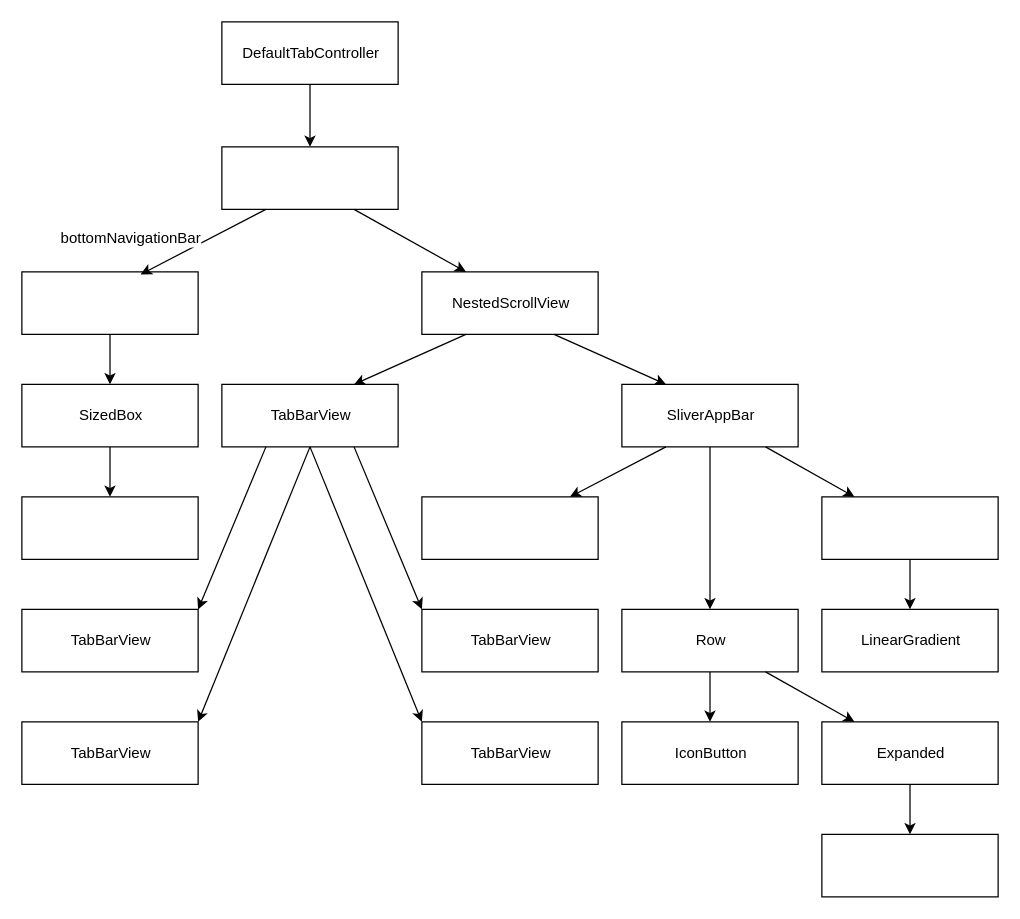
Image size: 1020x919. Some labels were removed from this diagram. The shapes that lost their labels are listed below. From the top down, each one's centre as x and y in pixels, then its label:
At point 309,177: "Scaffold".
At point 109,302: "BottomAppBar".
At point 109,527: "PlayBar".
At point 509,527: "TabBar".
At point 909,527: "Container".
At point 909,865: "Text".
